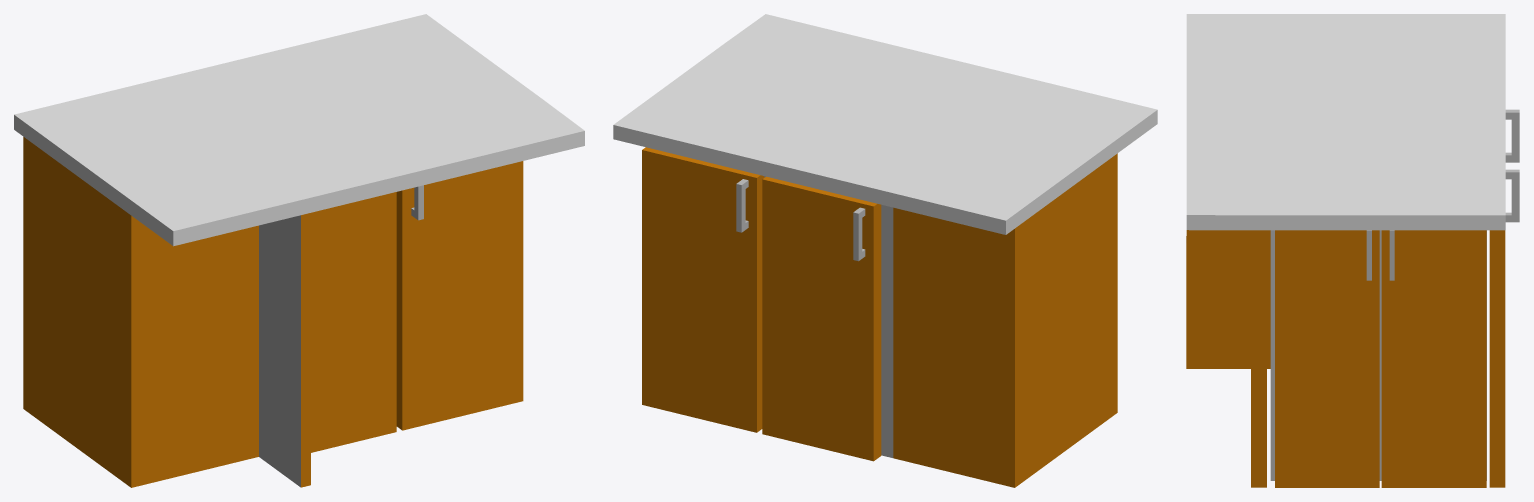
Rendered from sweethome3d-contributions-red-island-142.glb.
3 views of the same model, side by side, from view 1: azimuth 30°, elevation 25°; view 2: azimuth 150°, elevation 25°; view 3: azimuth 270°, elevation 25° (orthographic). The views are drawn at different scales.
Visible parts, largest first — view 1: Cube_Cube_Wood_Cherry, Cube_Cube_Piano, Cube_Cube_Aluminum; view 2: Cube_Cube_Wood_Cherry, Cube_Cube_Piano, Cube_Cube_Aluminum; view 3: Cube_Cube_Wood_Cherry, Cube_Cube_Piano, Cube_Cube_Aluminum.
Part boxes in pixels (box(x1,y1,x2,y2)): Cube_Cube_Wood_Cherry: box(23, 137, 523, 487); Cube_Cube_Piano: box(14, 14, 584, 246); Cube_Cube_Aluminum: box(259, 185, 423, 487); Cube_Cube_Wood_Cherry: box(642, 147, 1117, 487); Cube_Cube_Piano: box(613, 14, 1157, 234); Cube_Cube_Aluminum: box(736, 176, 893, 457); Cube_Cube_Wood_Cherry: box(1186, 230, 1505, 487); Cube_Cube_Piano: box(1186, 14, 1505, 230); Cube_Cube_Aluminum: box(1270, 109, 1519, 480).
Bounding box in the file's own units: 6.03 × 4.02 × 4.21.
